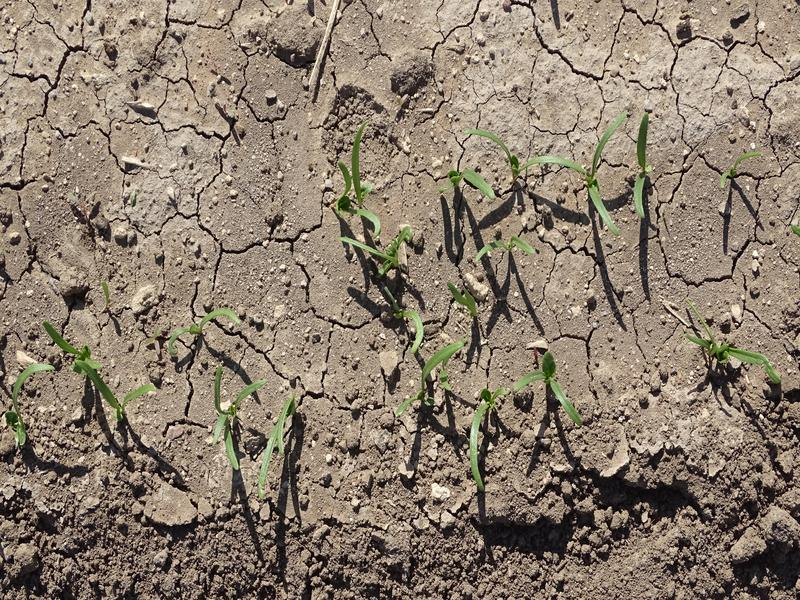Espinaca: (443, 113, 629, 258), (467, 351, 578, 482), (46, 325, 153, 419), (388, 304, 458, 413), (678, 309, 774, 372), (335, 123, 382, 237), (207, 366, 257, 470), (159, 304, 239, 358), (258, 395, 297, 481), (329, 237, 411, 273), (633, 113, 653, 222), (12, 365, 56, 398)
